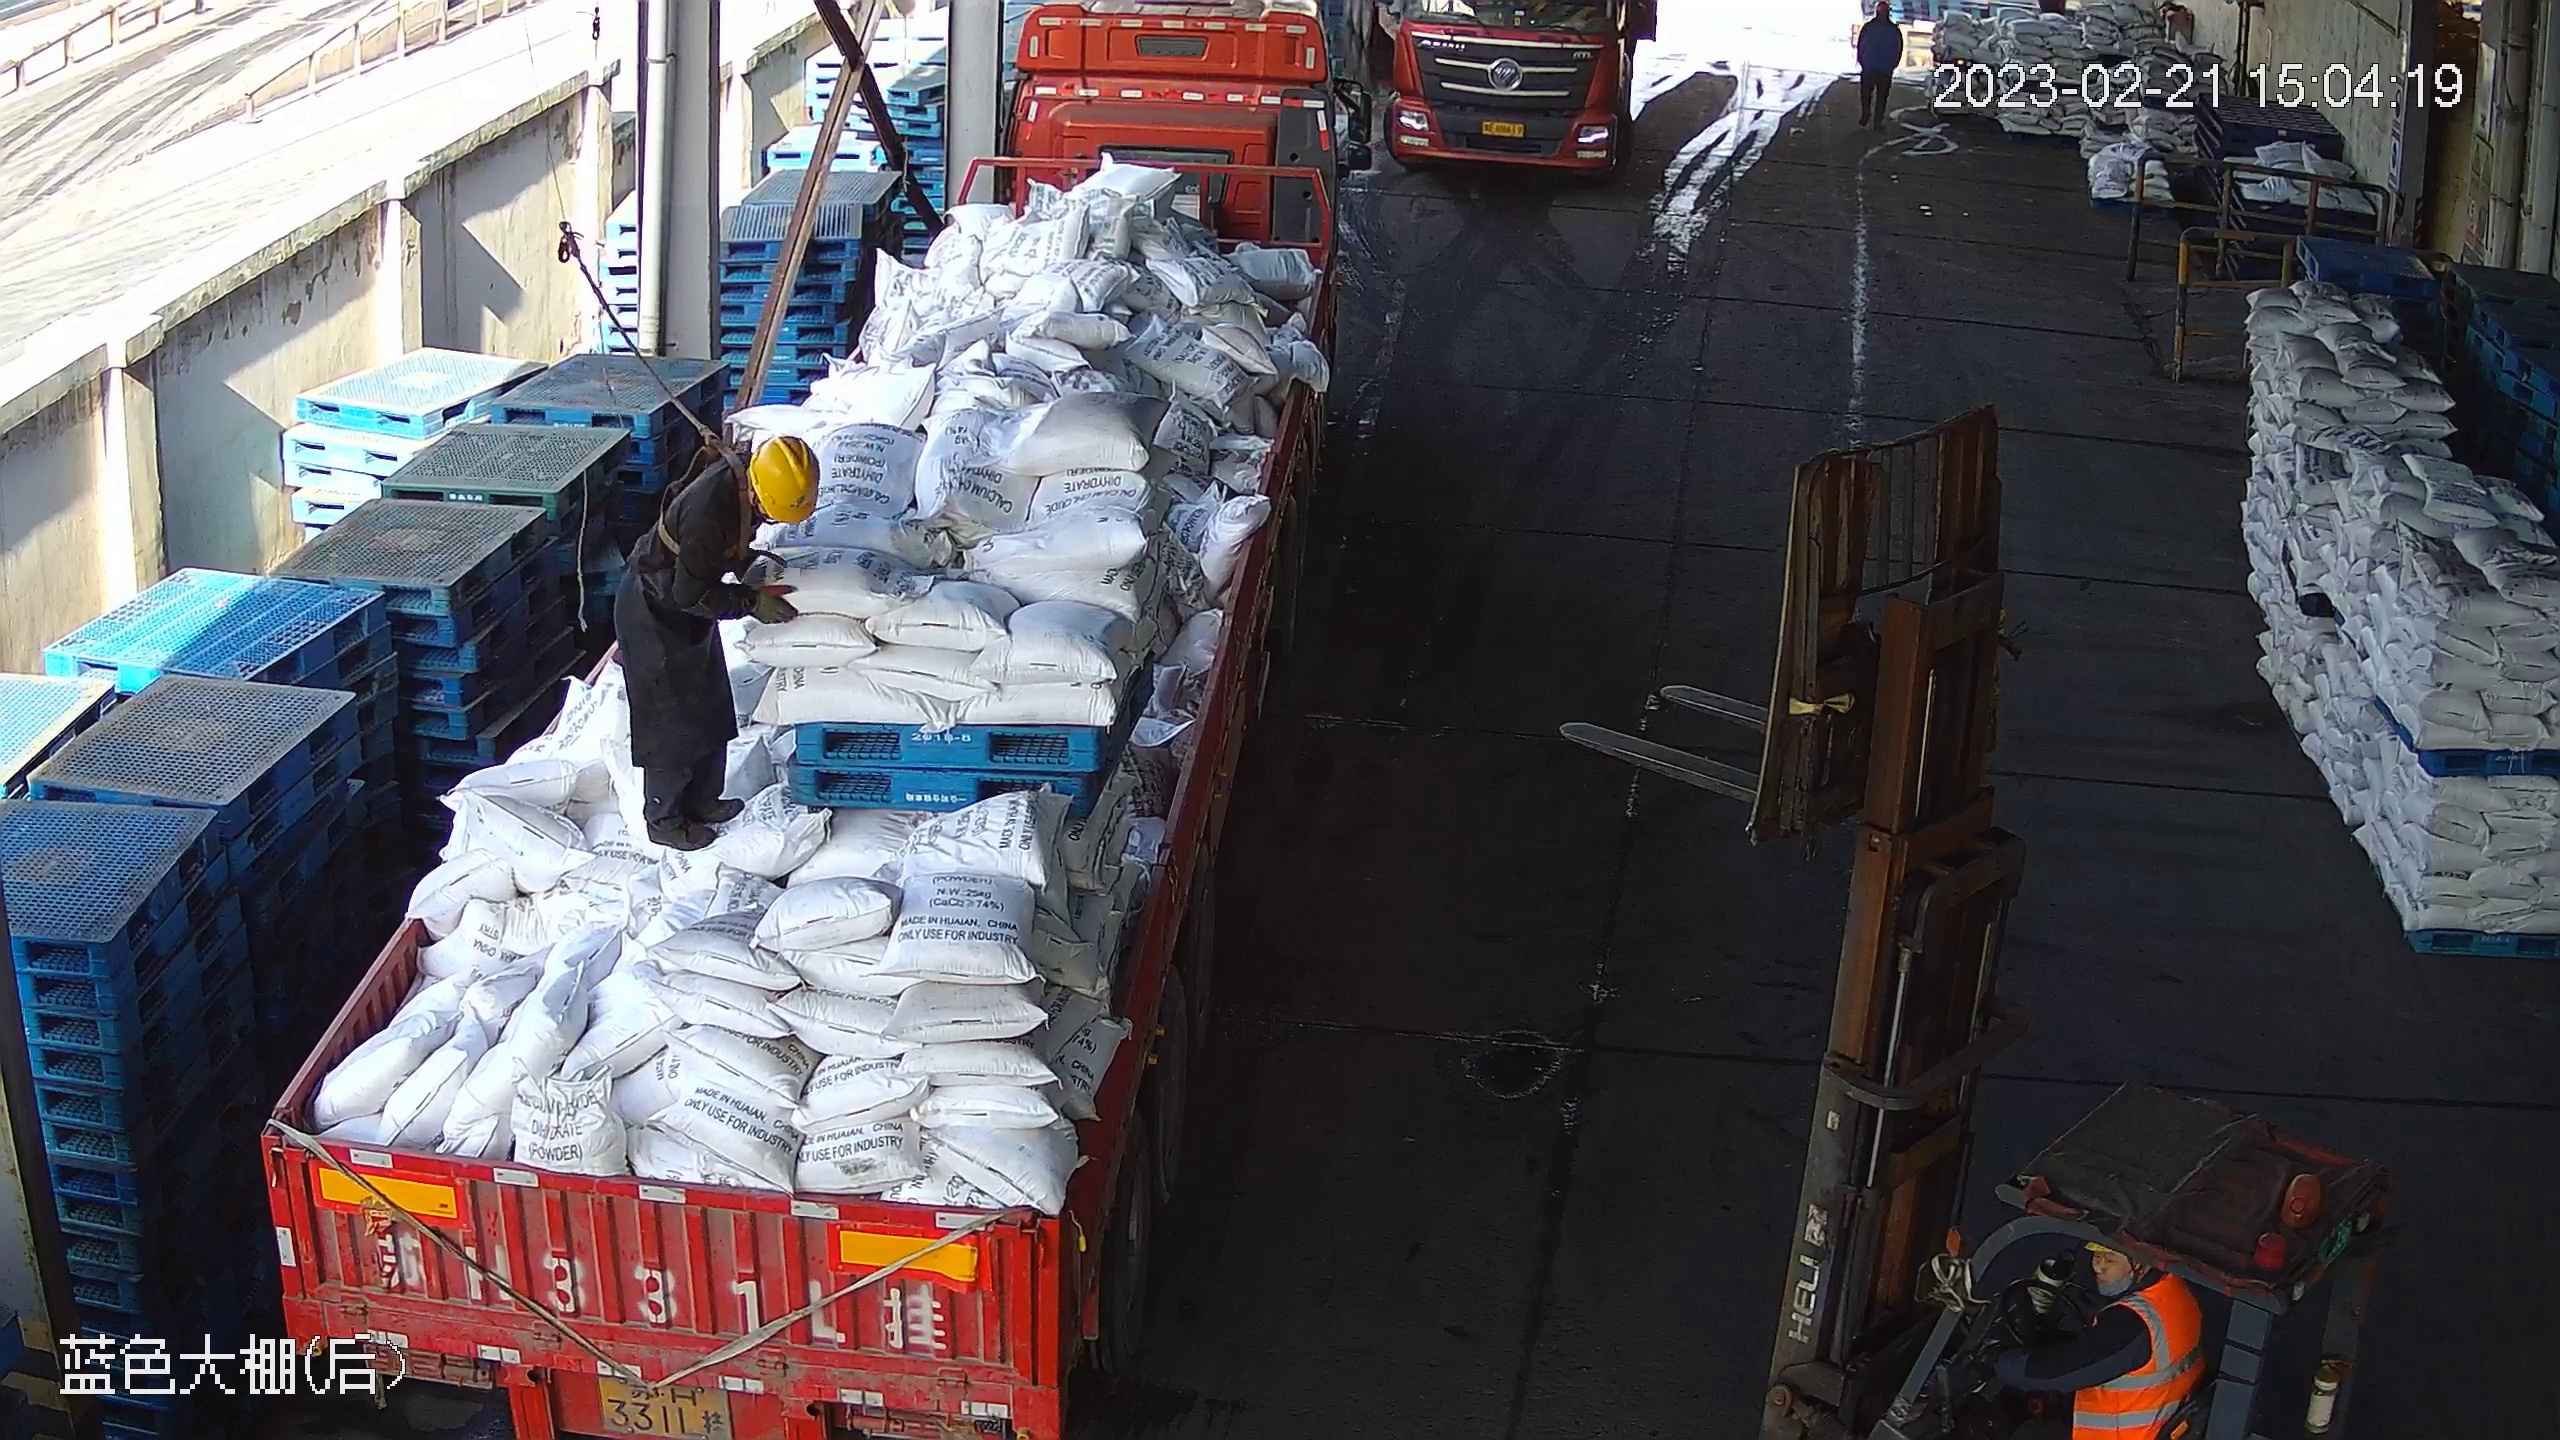belt: (643, 435, 765, 556)
head: (1978, 1230, 2215, 1439), (630, 439, 822, 616), (1855, 1, 1903, 52)
helmet: (748, 429, 818, 523), (1876, 2, 1893, 12)
people: (611, 435, 821, 844), (1854, 1, 1905, 134)
truck: (230, 3, 1374, 1440), (1381, 1, 1656, 167)
